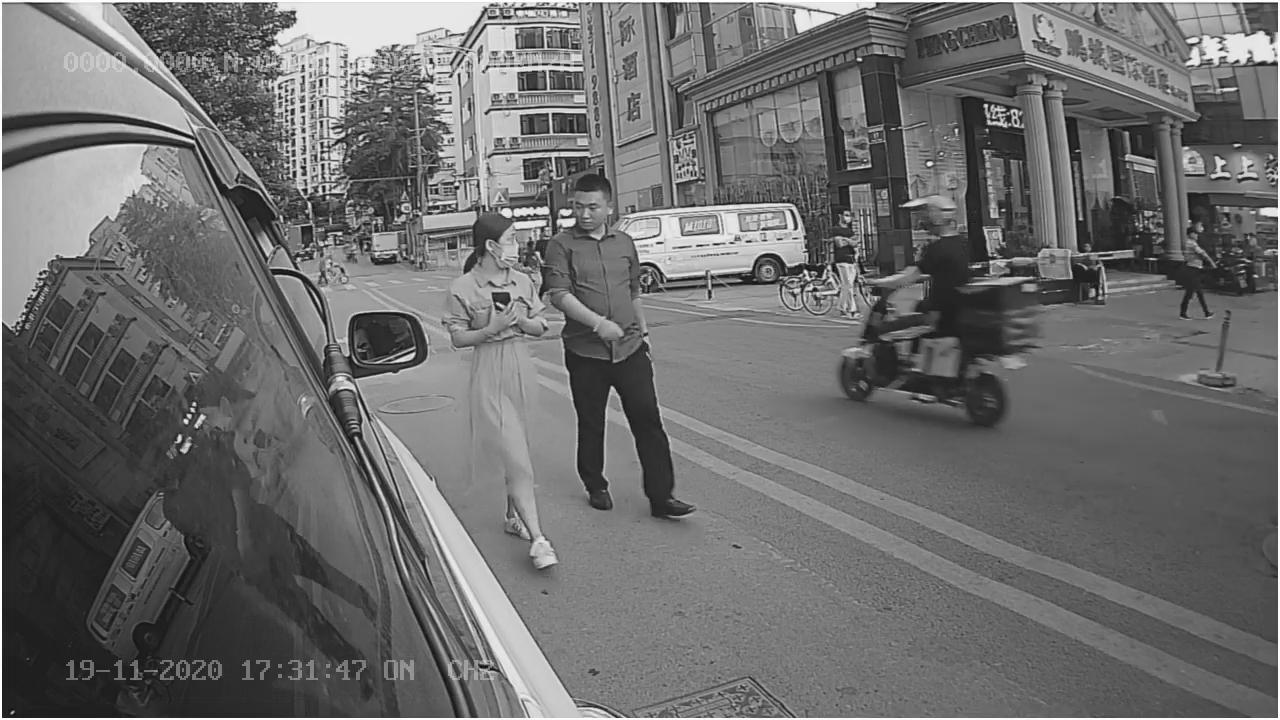person: (542, 171, 708, 519), (447, 203, 549, 428)
